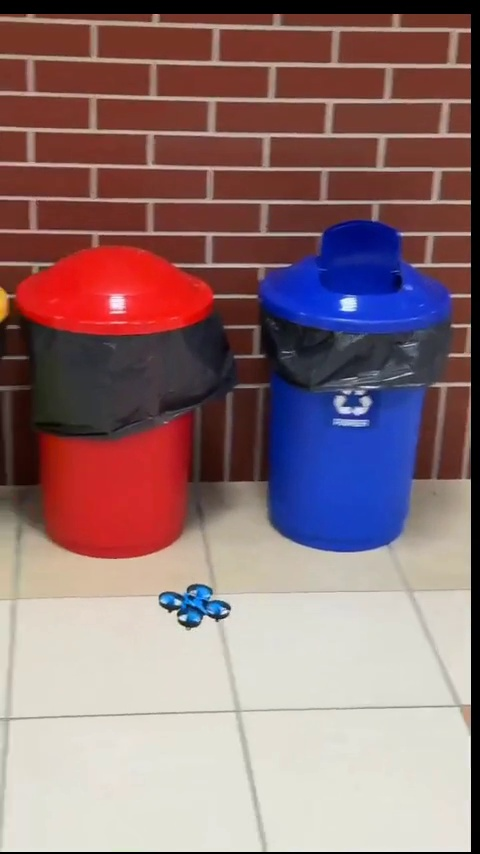drone: (157, 583, 230, 634)
